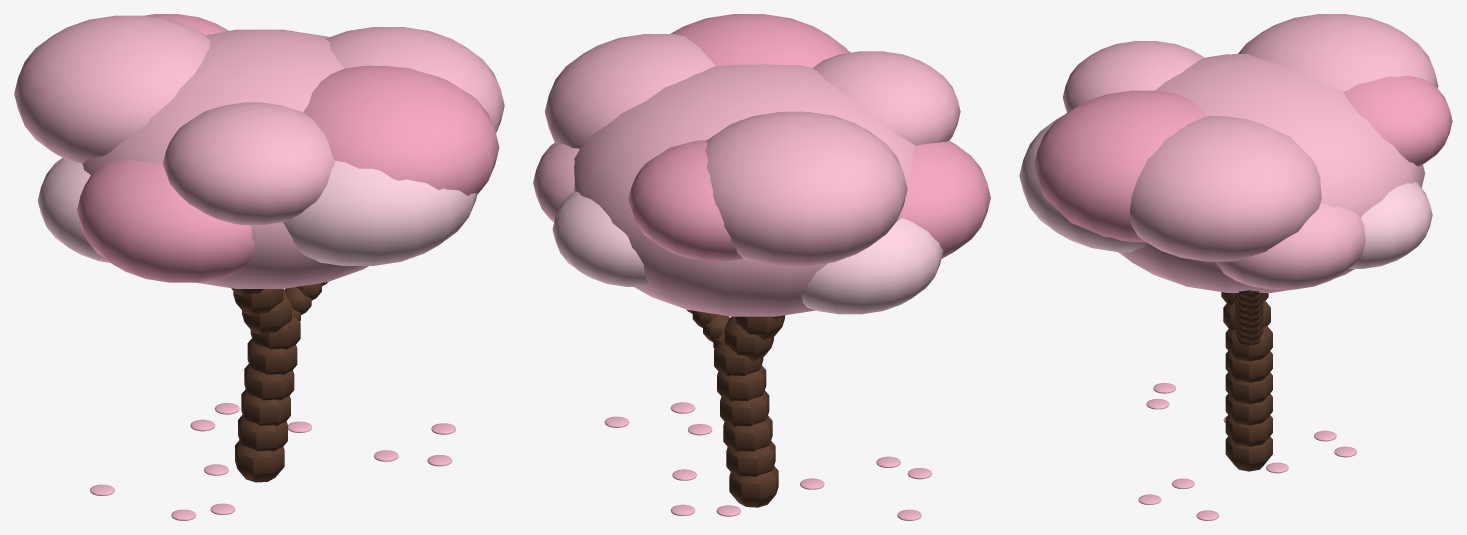
File: veg_cerejeira.glb
3 renders of one model, left to right at view 1: azimuth 30°, elevation 25°; view 2: azimuth 150°, elevation 25°; view 3: azimuth 270°, elevation 25°, orthographic. The views are drawn at different scales.
Parts seen in each view (by area): view 1: veg_cerejeira; view 2: veg_cerejeira; view 3: veg_cerejeira.
Boxes of the visible parts, <box> form: veg_cerejeira: <box>14,14,504,520</box>; veg_cerejeira: <box>533,14,990,520</box>; veg_cerejeira: <box>1019,14,1452,520</box>.
Size of the model in its own units: 5.17 by 5.31 by 5.17.
